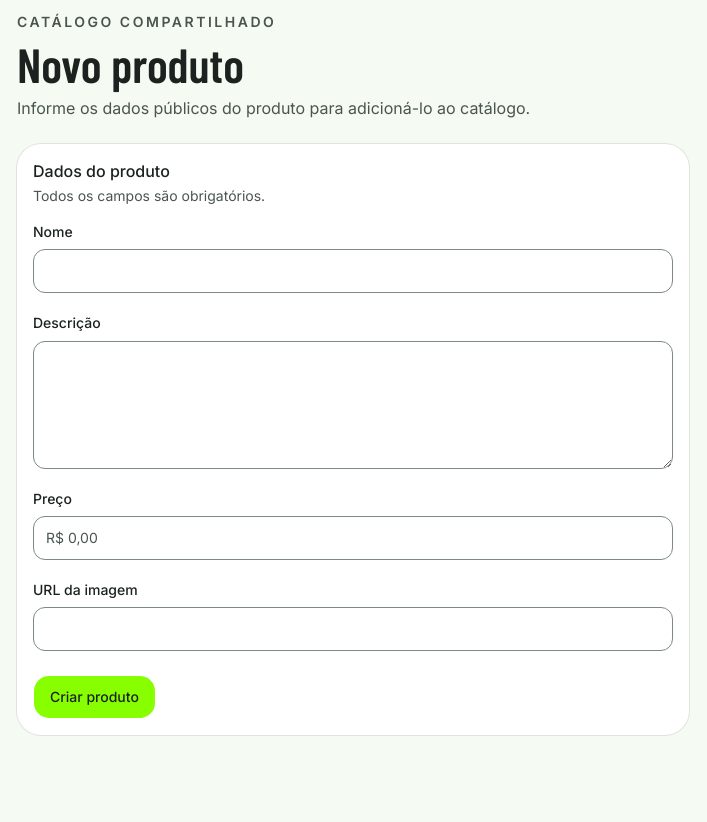
Test case: ProductCreationScreen › valida campos antes do gateway e foca o primeiro erro
Click the button "Criar produto" at (94, 697), box [33,675,156,719]
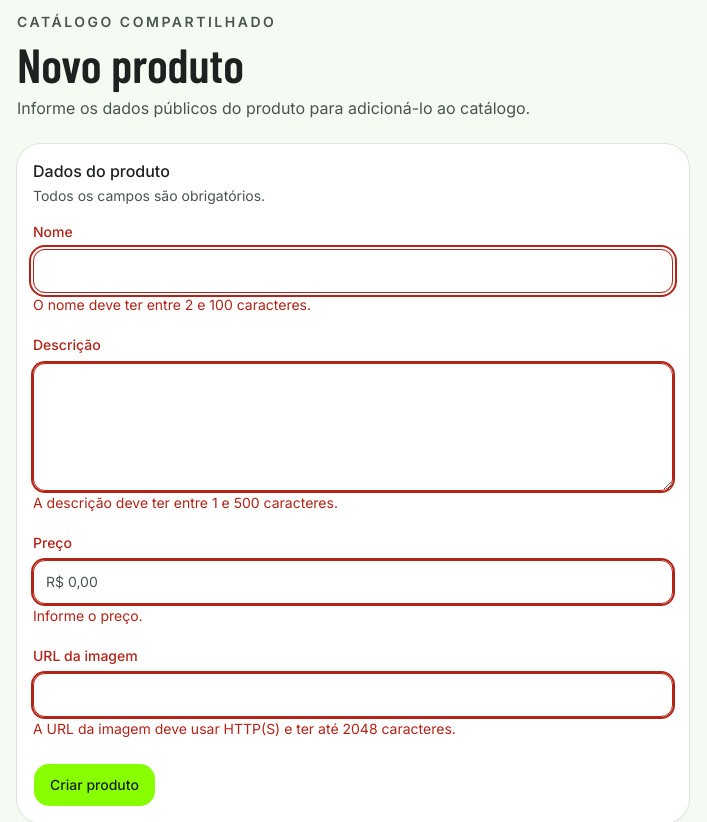
Expected: the text "O nome deve ter entre 2 e 100 caracteres." is shown, [33,296,311,313]
Expected: the text "A descrição deve ter entre 1 e 500 caracteres." is shown, [33,494,338,510]
Expected: the text "Informe o preço." is shown, [33,607,143,624]
